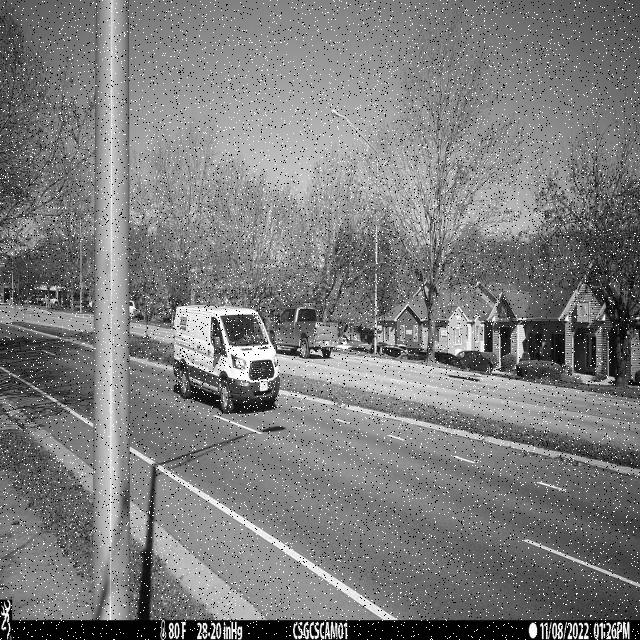Van: (173, 305, 280, 415)
